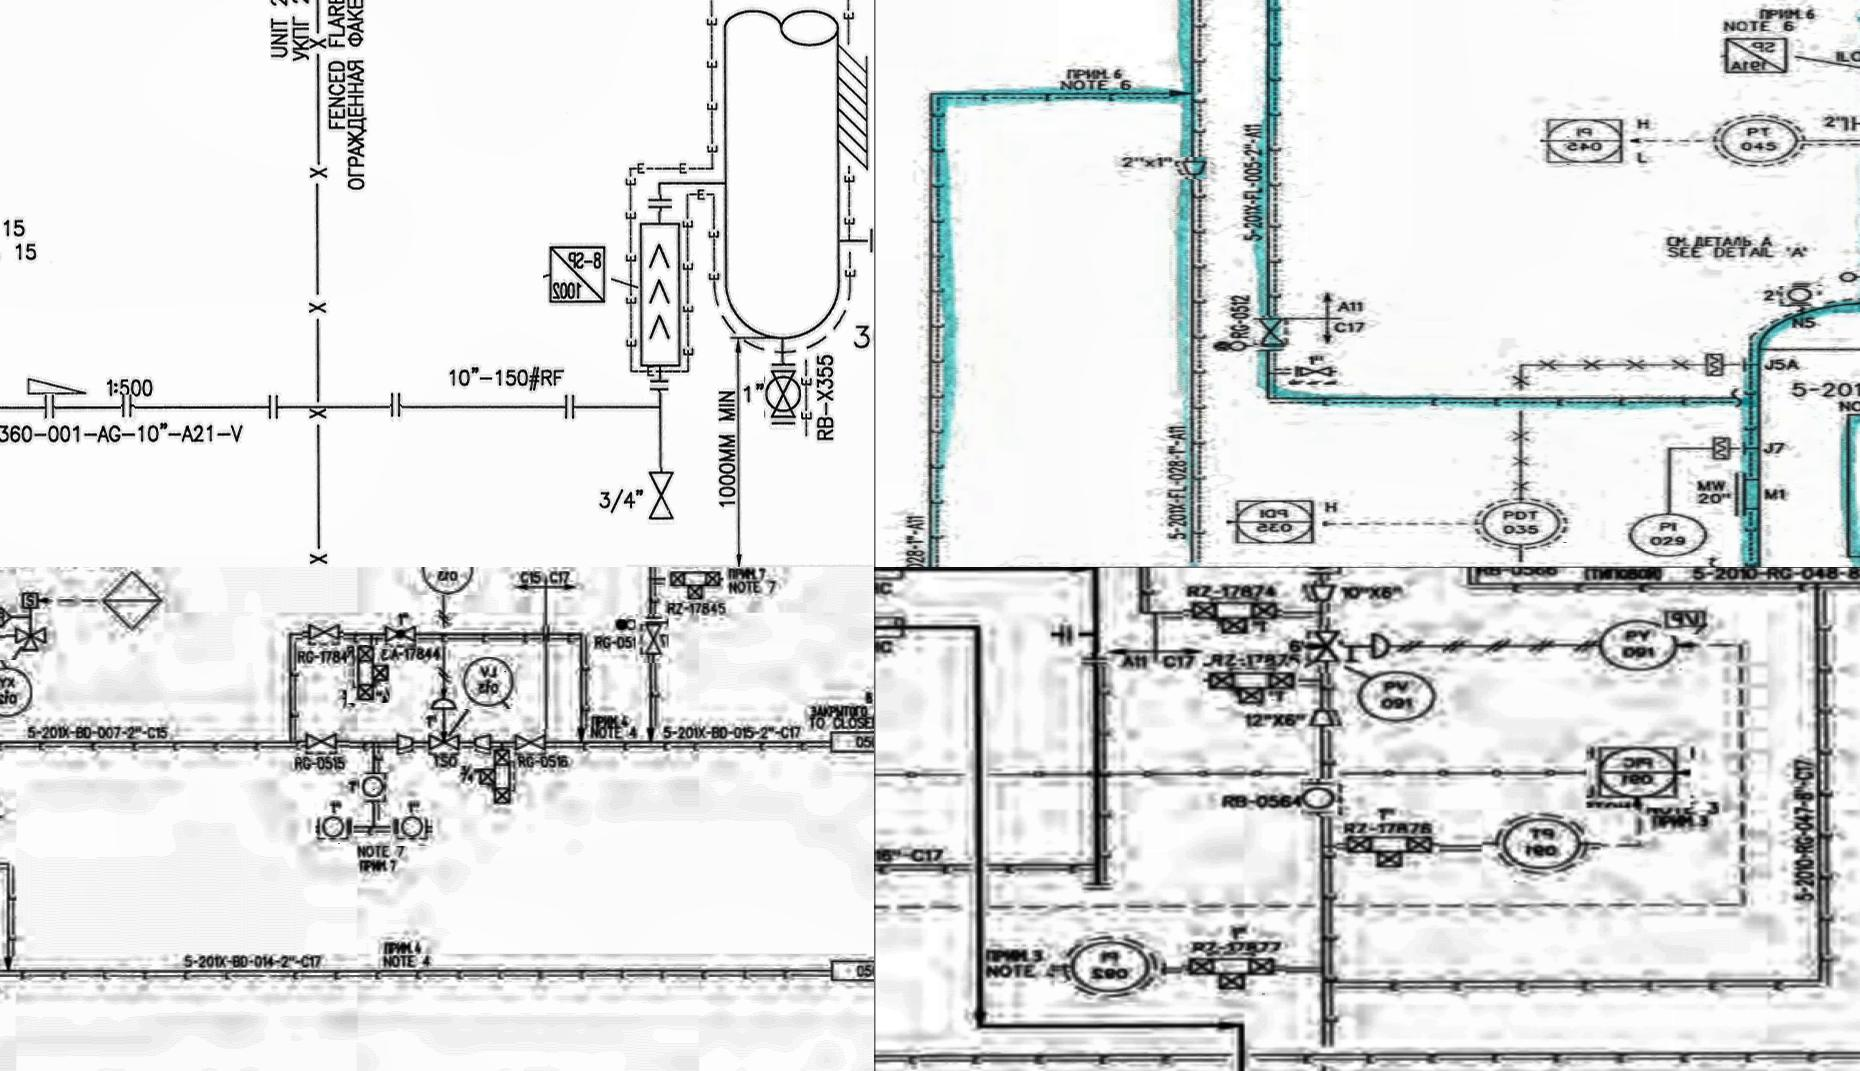2 WAY VALVE: (346, 645, 391, 704), (482, 748, 520, 806), (666, 567, 723, 603)
3 WAY GENERAL VALVE: (5, 621, 56, 657)
BALL VALVE: (764, 363, 802, 428)
CONCENTRIC REDUCER: (392, 727, 419, 755), (475, 731, 497, 754)
DIAPHRAGM ACTUATED VALVE: (422, 697, 466, 754)
END FLANGED: (648, 194, 675, 211), (563, 392, 576, 419), (649, 380, 673, 394), (391, 391, 402, 420), (123, 395, 135, 420), (267, 395, 280, 419), (45, 394, 55, 420), (867, 226, 874, 253)
FIELD INSTRUMENT: (874, 114, 940, 166), (459, 658, 519, 711), (0, 659, 34, 721), (410, 567, 480, 596), (391, 813, 434, 846), (316, 813, 354, 844), (359, 774, 391, 805), (904, 286, 948, 307)
GATE VALVE: (635, 615, 668, 665), (296, 731, 350, 760), (648, 468, 676, 523), (510, 730, 553, 760), (303, 621, 344, 651)
GLOBE VALVE: (378, 620, 425, 643), (431, 703, 431, 704)
HARDWIRED INTERLOCK FIELD: (0, 605, 10, 629)
HARDWIRED INTERLOCK PRIMARY.: (106, 567, 166, 633)
SPECIAL PIPING ITEM: (543, 240, 611, 309), (874, 31, 919, 75)
SPECTACLE BLIND CLOSED: (607, 613, 666, 631)
SPEED FLOW METER: (17, 587, 41, 613)
